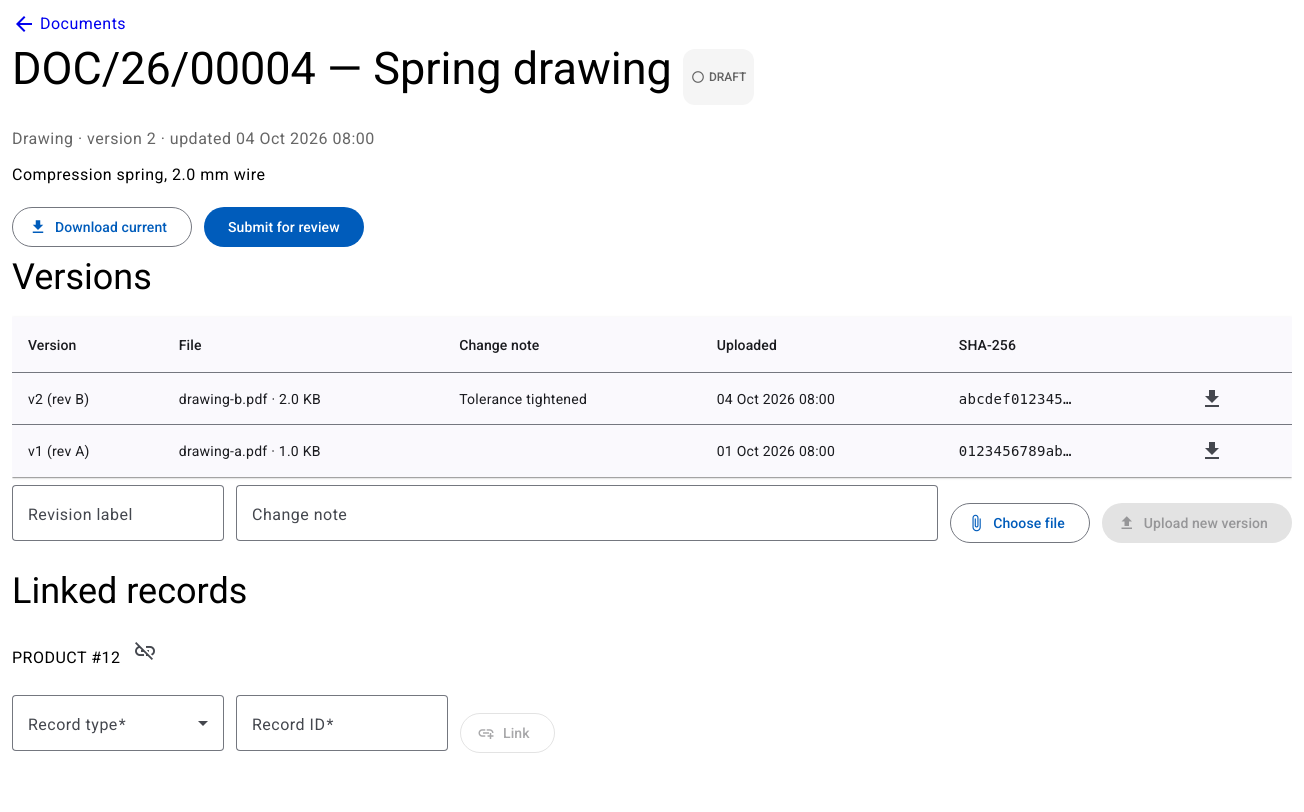
Test: DocumentDetailComponent › removes a link
Click the button named "Remove link" at coordinates (145, 652), box [125,632,165,672]
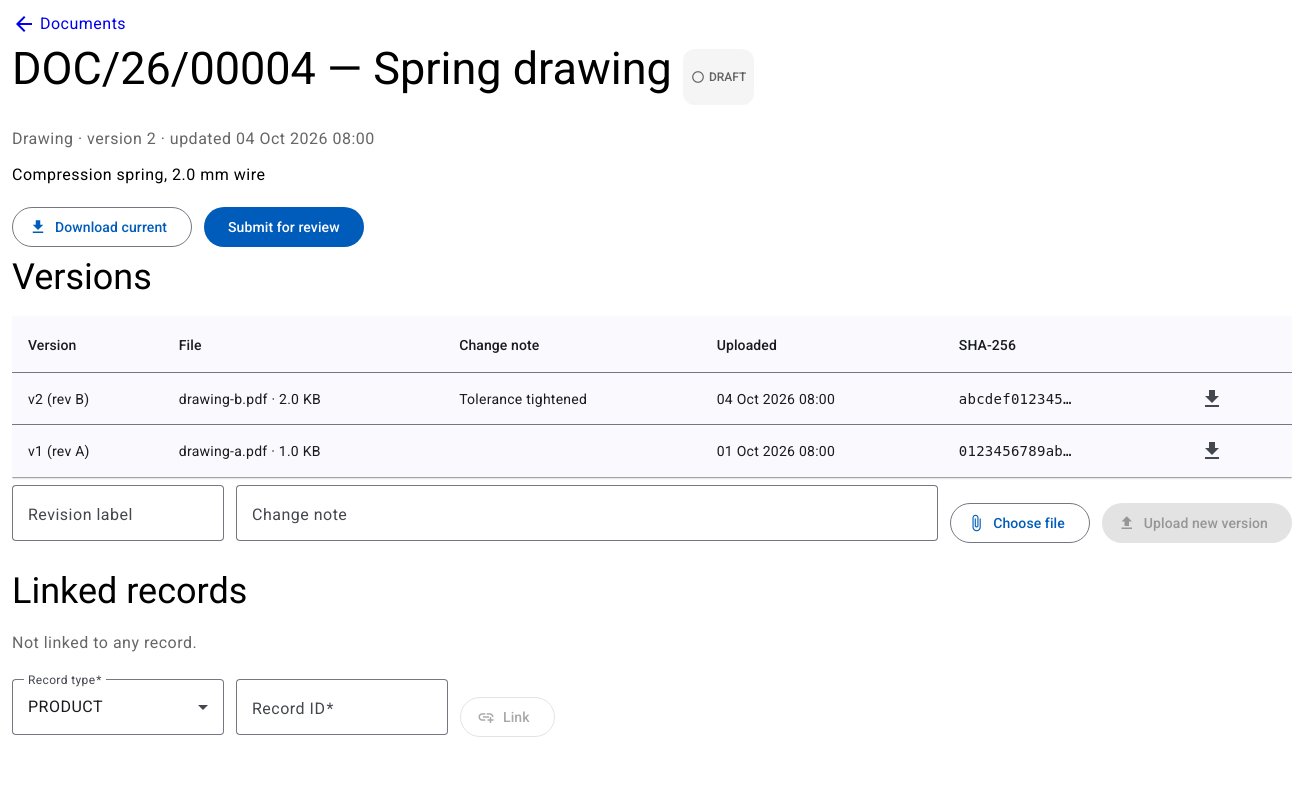
Expected: the text "Not linked to any record" is shown, [12,634,197,652]
